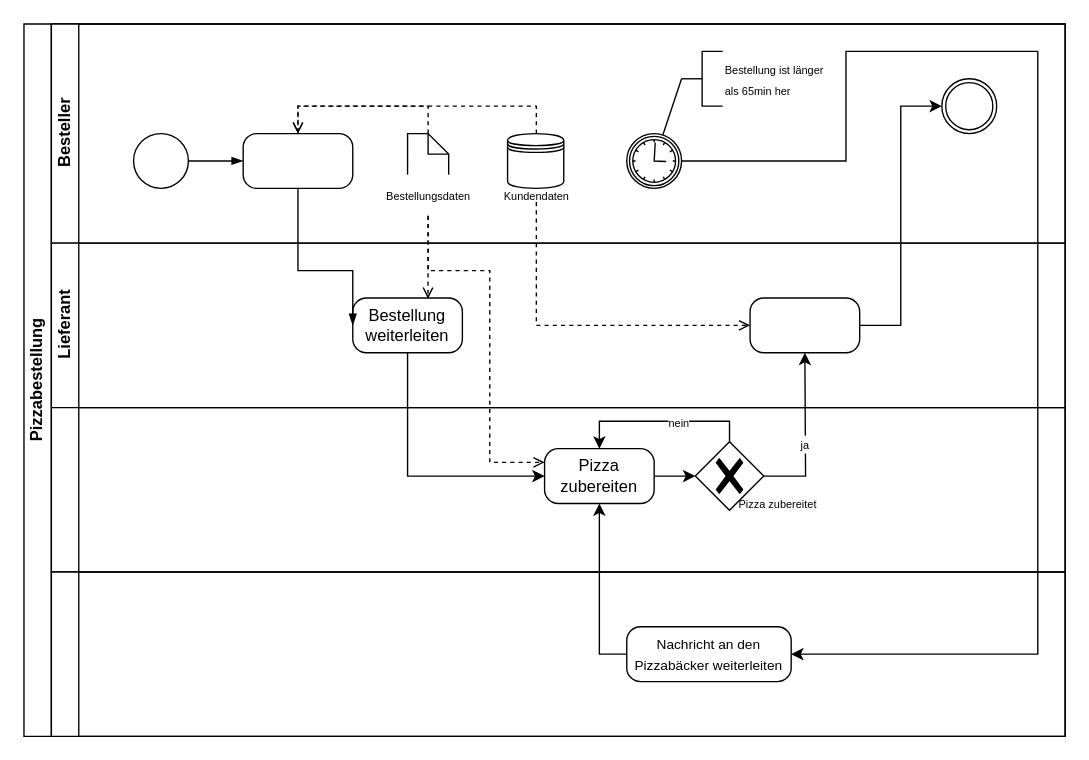
Some shapes in this 1089 by 760 pixel diagram are drawn without their labels. The box of each missing label's shape, as (x1, y1, x2, y2) in pixels:
Bestellung aufgeben: (242, 132, 353, 188)
Pizza ausliefern: (749, 297, 860, 353)
Pizzabäcker: (50, 406, 1065, 572)
Pizzaservice: (50, 571, 1065, 736)
